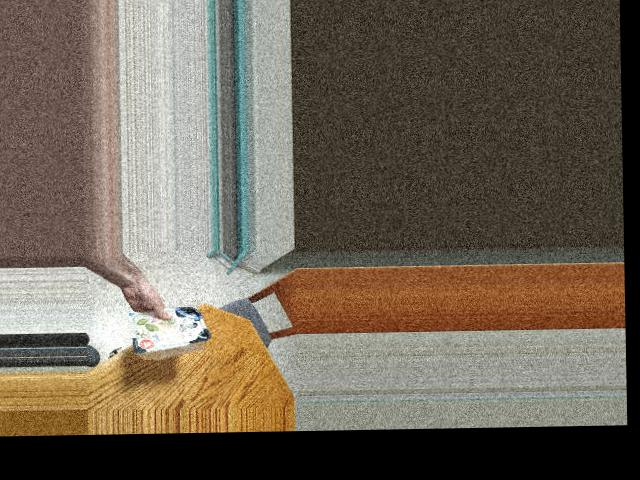cheese: (132, 298, 206, 355)
